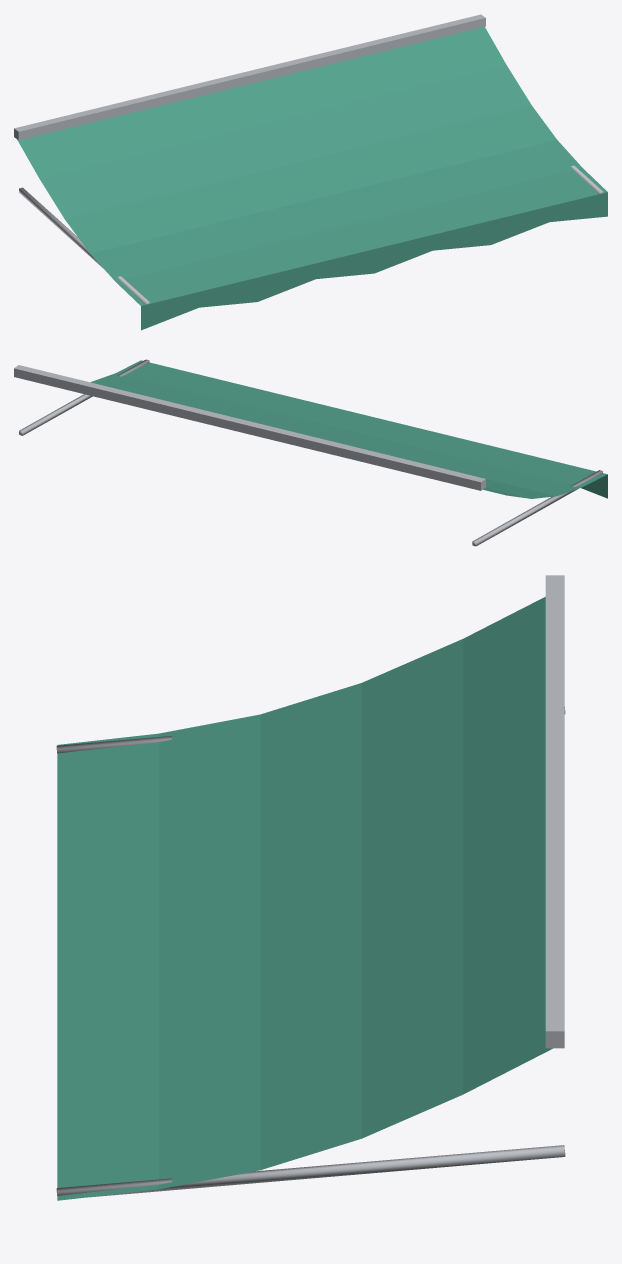
File: city_awning_teal.glb
3 renders of one model, top to bottom at view 1: azimuth 30°, elevation 25°; view 2: azimuth 150°, elevation 25°; view 3: azimuth 270°, elevation 25°, orthographic. The views are drawn at different scales.
Visible parts, largest first — view 1: CityAwningTeal_Canvas, CityAwningTeal_Rail, CityAwningTeal_Arm0.35; view 2: CityAwningTeal_Canvas, CityAwningTeal_Rail, CityAwningTeal_Arm0.35, CityAwningTeal_Arm3.65; view 3: CityAwningTeal_Canvas, CityAwningTeal_Rail, CityAwningTeal_Arm3.65.
Boxes of the visible parts, box(x1,y1,x2,y2) form: CityAwningTeal_Canvas: box(17, 27, 607, 330); CityAwningTeal_Rail: box(14, 14, 485, 140); CityAwningTeal_Arm0.35: box(19, 187, 149, 304); CityAwningTeal_Canvas: box(90, 360, 607, 498); CityAwningTeal_Rail: box(14, 365, 485, 490); CityAwningTeal_Arm0.35: box(472, 470, 602, 546); CityAwningTeal_Arm3.65: box(19, 359, 149, 435); CityAwningTeal_Canvas: box(57, 597, 552, 1200); CityAwningTeal_Rail: box(545, 575, 564, 1048); CityAwningTeal_Arm3.65: box(56, 1145, 565, 1197).
Size of the model in its own units: 3.4 by 0.76 by 1.6.
